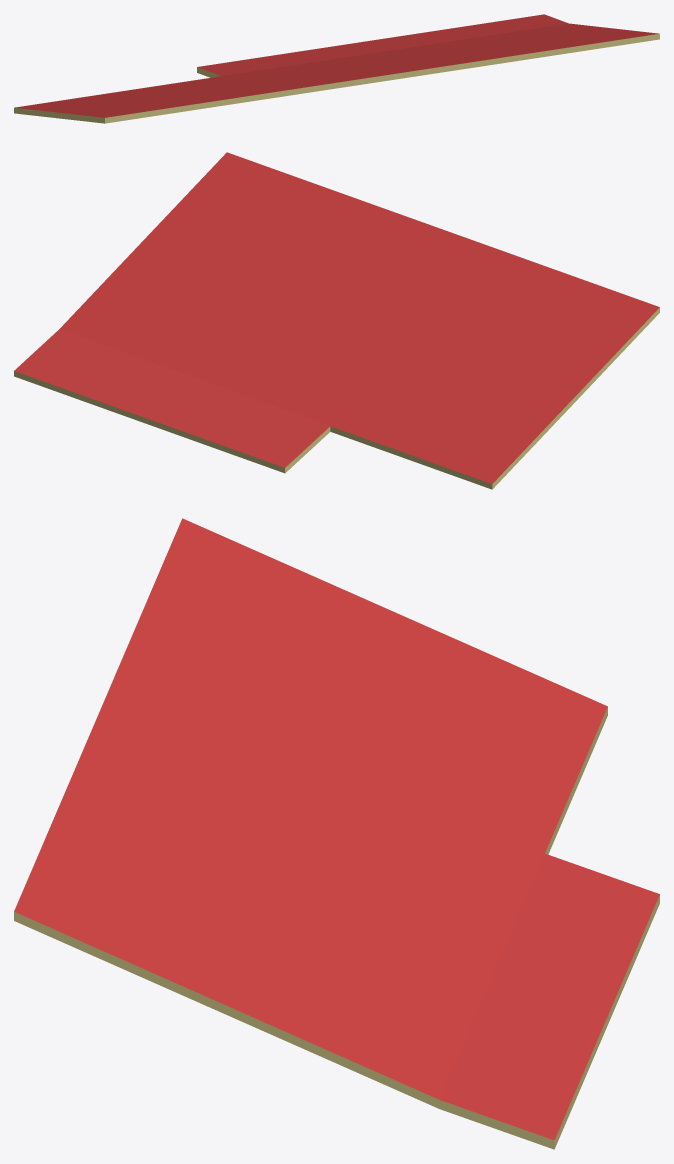
The picture shows the model from 3 angles, top to bottom: view 1: azimuth 30°, elevation 25°; view 2: azimuth 150°, elevation 25°; view 3: azimuth 270°, elevation 25°; orthographic projection. The views are drawn at different scales.
Size of the model in its own units: 10.08 by 6.33 by 2.13.
